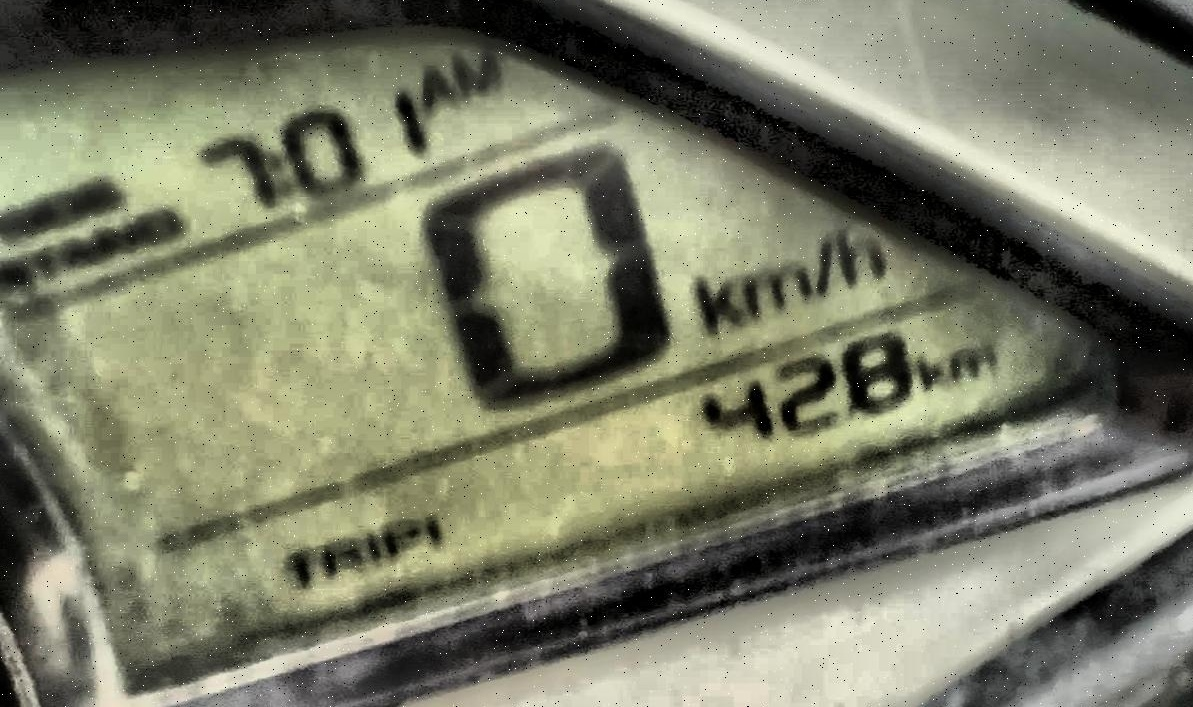-: (836, 402, 867, 429)
0: (425, 151, 663, 386), (288, 107, 363, 197)
1: (389, 93, 428, 162), (423, 508, 446, 542)
2: (775, 360, 837, 437)
4: (699, 375, 769, 447)
7: (199, 133, 274, 209)
8: (843, 334, 913, 409)
X: (745, 260, 809, 315), (836, 219, 886, 287), (691, 266, 740, 330), (407, 67, 466, 112), (450, 46, 501, 93), (279, 542, 316, 596), (323, 535, 359, 581), (812, 232, 836, 299), (951, 346, 998, 378), (384, 516, 418, 560), (265, 149, 295, 196), (919, 353, 949, 394), (366, 527, 385, 577)
